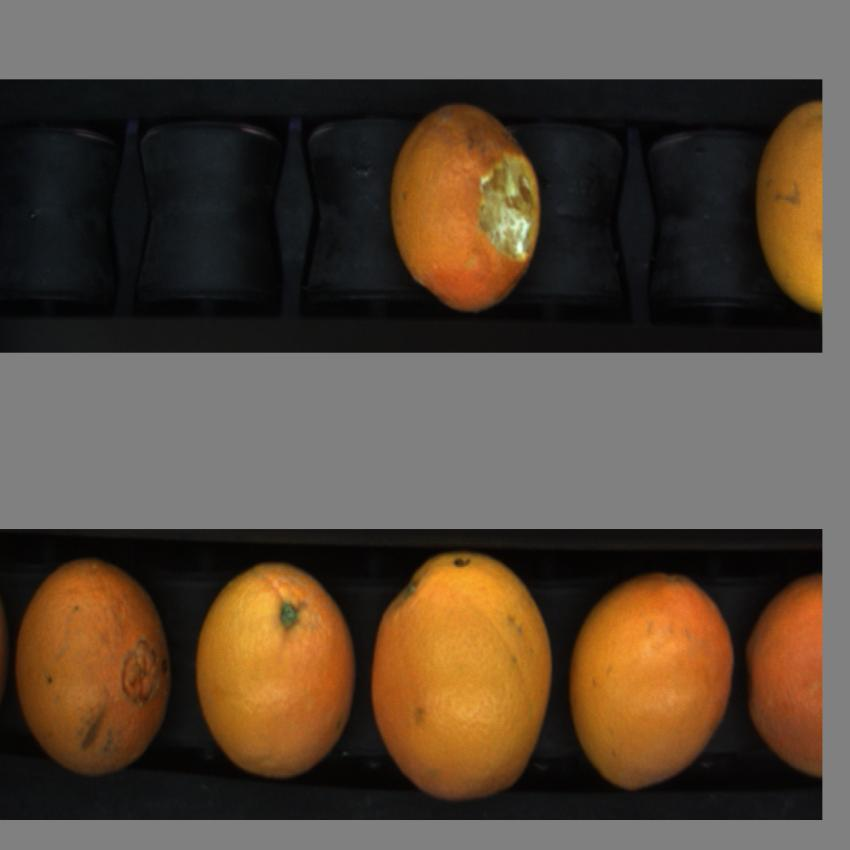Buen estado: (370, 559, 560, 799), (571, 562, 734, 801), (195, 560, 356, 789), (17, 560, 171, 784), (747, 101, 824, 320), (743, 574, 826, 774)
Mal estado: (387, 97, 552, 316)
